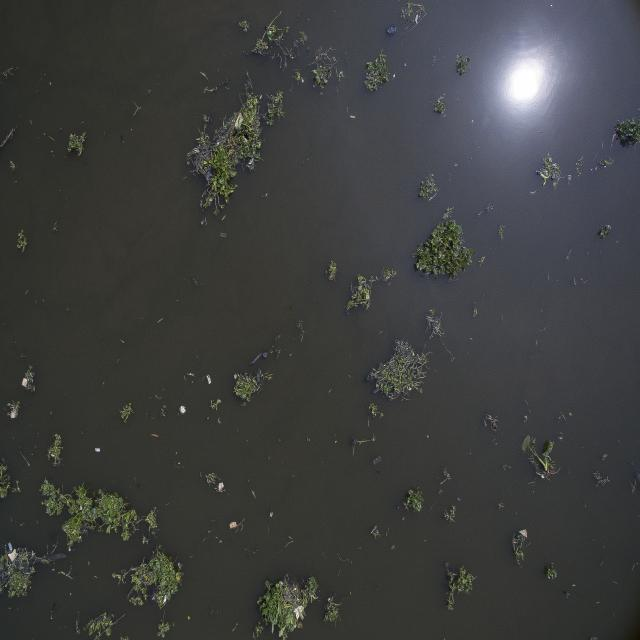Plastic: (249, 350, 270, 368), (5, 541, 19, 561), (234, 110, 245, 128), (387, 22, 398, 37), (216, 481, 226, 493), (227, 520, 238, 530), (180, 404, 187, 415), (21, 376, 28, 387), (10, 409, 18, 418)
